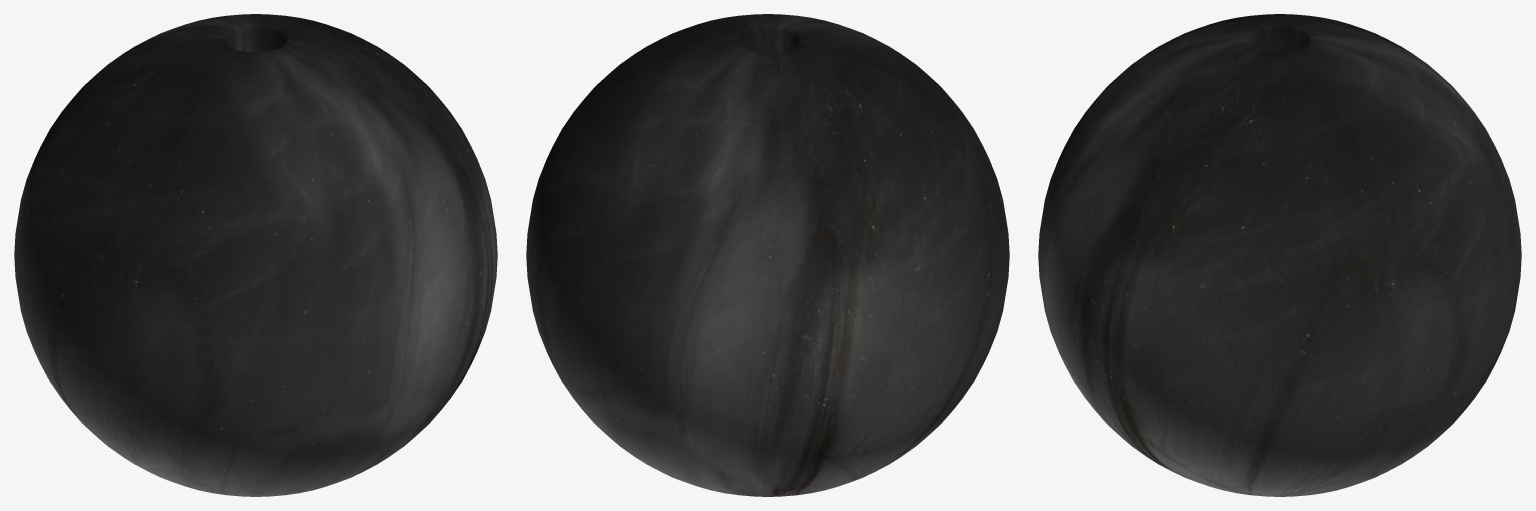
Rendered from HaEy.glb.
3 renders of one model, left to right at view 1: azimuth 30°, elevation 25°; view 2: azimuth 150°, elevation 25°; view 3: azimuth 270°, elevation 25°, orthographic.
Visible parts, largest first — view 1: Sphere.001; view 2: Sphere.001; view 3: Sphere.001.
Part boxes in pixels (x1,y1,x2,y2): Sphere.001: [14, 14, 497, 496]; Sphere.001: [526, 14, 1009, 496]; Sphere.001: [1038, 14, 1521, 496].
Bounding box in the file's own units: 1 × 0.9894 × 1.
1 material, 1 textured.
